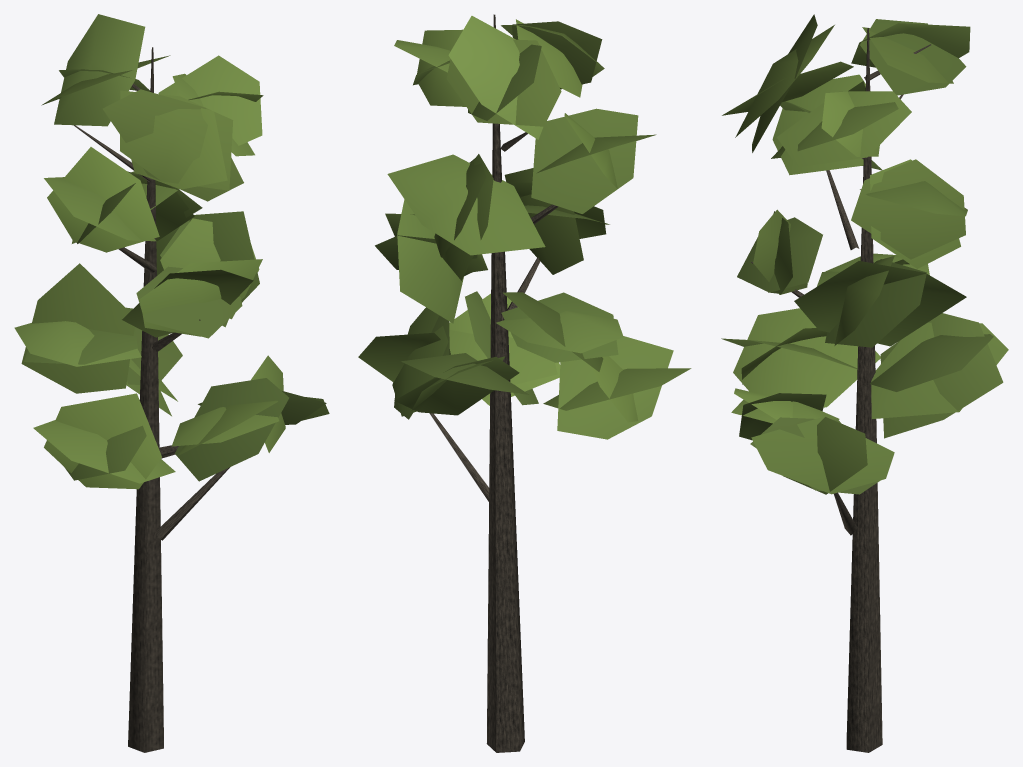
File: upright_02_lod3.glb
3 renders of one model, left to right at view 1: azimuth 30°, elevation 25°; view 2: azimuth 150°, elevation 25°; view 3: azimuth 270°, elevation 25°, orthographic. The views are drawn at different scales.
Parts seen in each view (by area): view 1: individual_curved_leaf_sprigs, retained_branches_0; view 2: individual_curved_leaf_sprigs, retained_branches_0; view 3: individual_curved_leaf_sprigs, retained_branches_0.
Boxes of the visible parts, x1,y1,x2,y2 form: individual_curved_leaf_sprigs: [14, 14, 329, 489]; retained_branches_0: [74, 47, 230, 752]; individual_curved_leaf_sprigs: [358, 16, 691, 439]; retained_branches_0: [430, 14, 558, 752]; individual_curved_leaf_sprigs: [721, 14, 1008, 494]; retained_branches_0: [751, 28, 930, 752].
Bounding box in the file's own units: 4.66 × 11.63 × 4.17.
2 materials, 1 textured.
